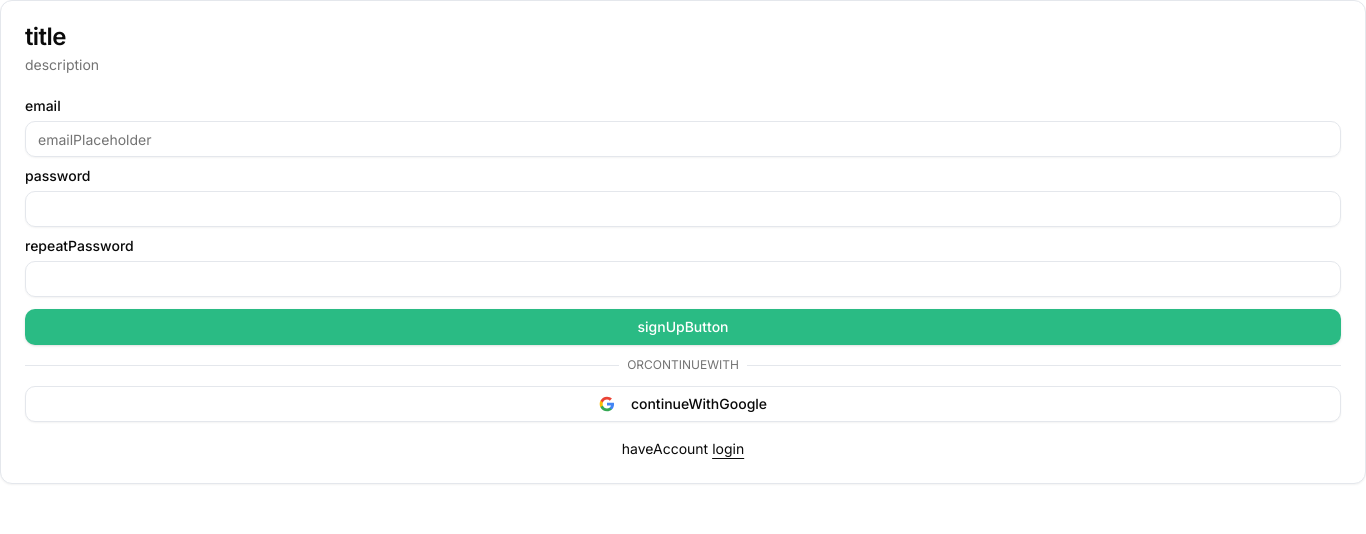
it: SignUpForm › shows error when passwords do not match
In the field labelled "email": (683, 139) [25, 121, 1341, 157], type "test@example.com"
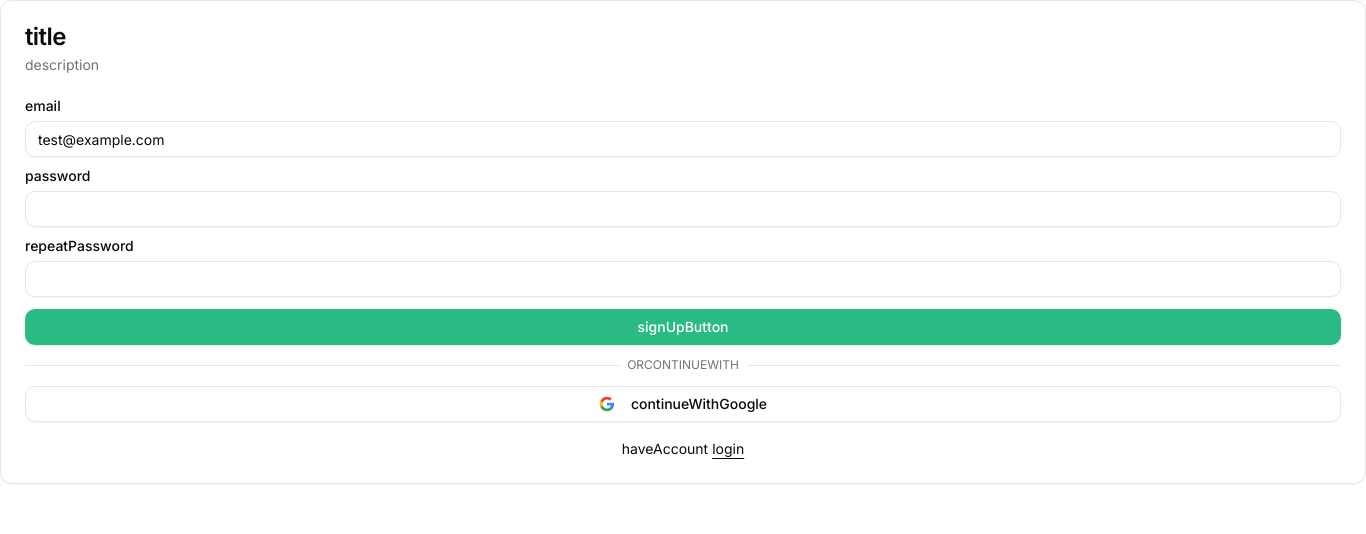
In the password field labelled "password": (683, 209) [25, 191, 1341, 227], type "password123"
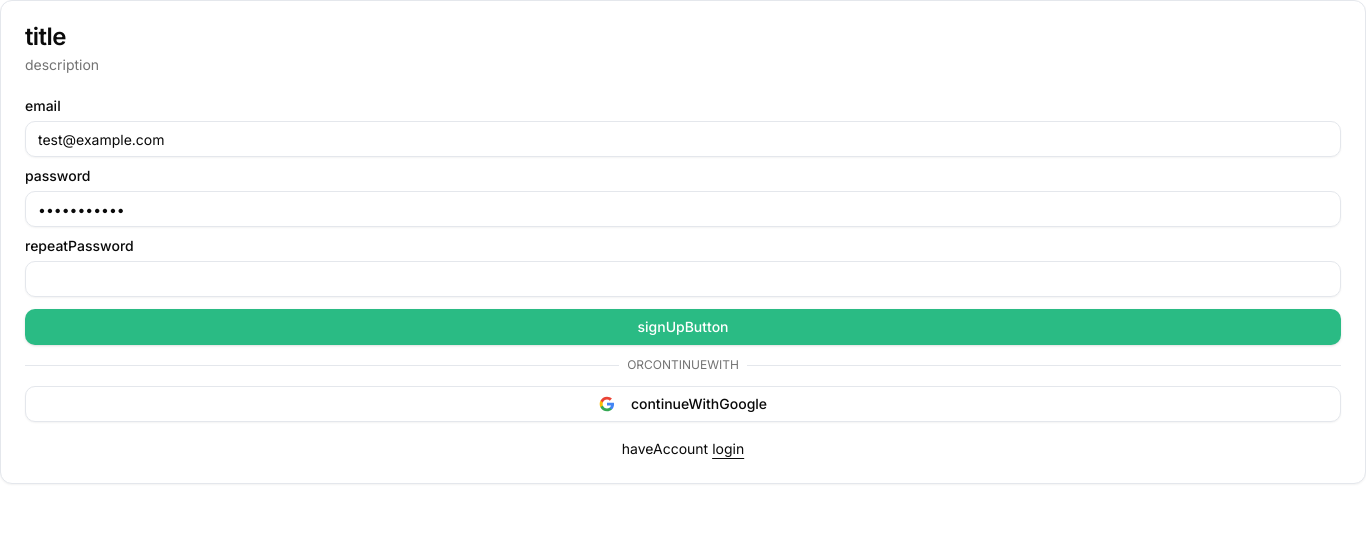
In the password field labelled "repeatPassword": (683, 279) [25, 261, 1341, 297], type "differentPassword"
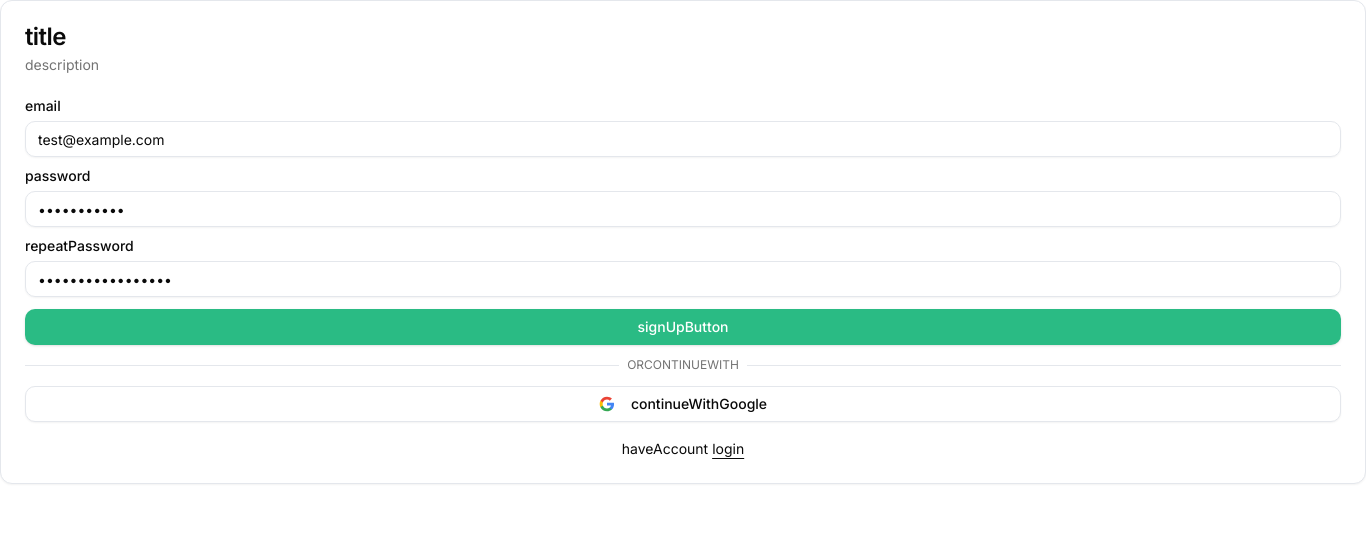
Click the button "signUpButton": click(683, 327) [25, 309, 1341, 345]
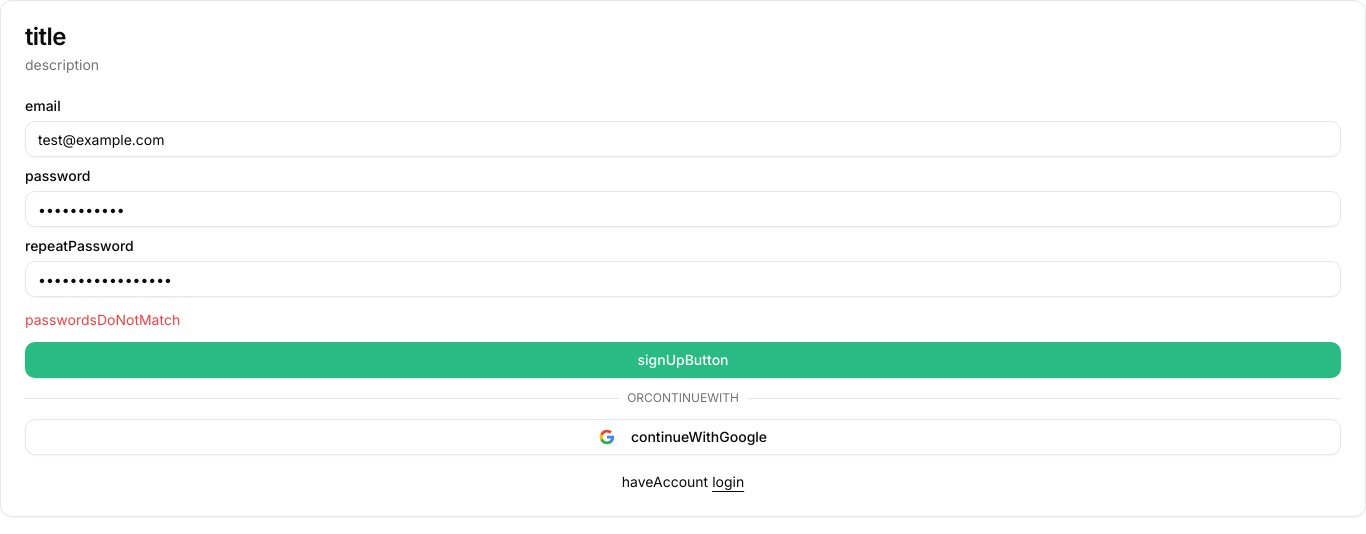
Expected: the text "passwordsDoNotMatch" is shown, [25, 311, 180, 328]
